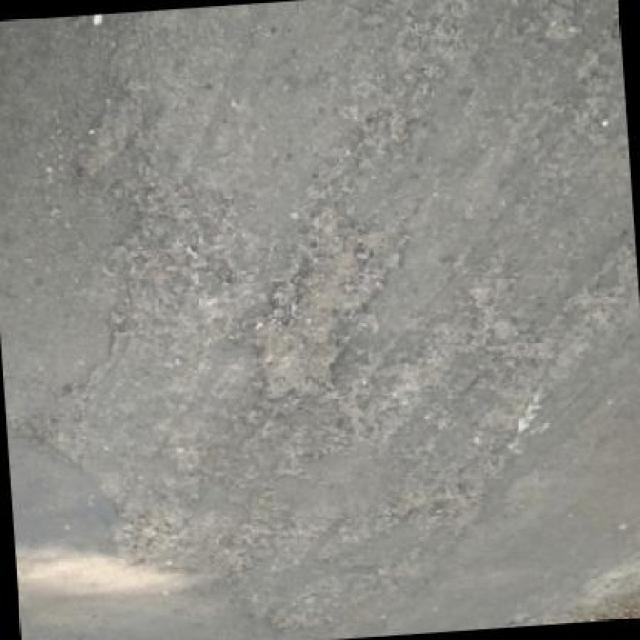pothole: (238, 213, 419, 412)
